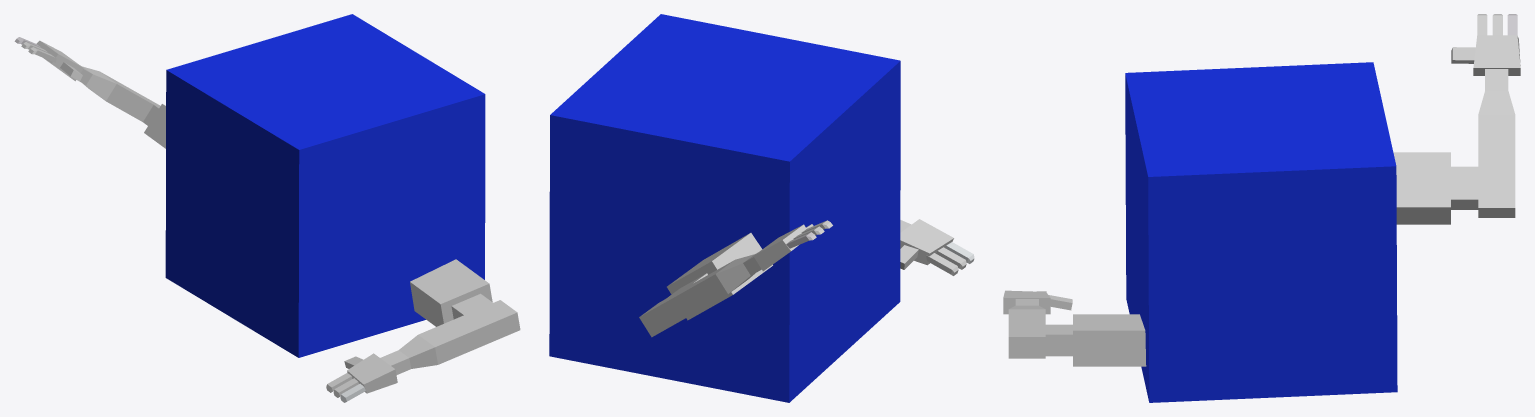
File: Block Model.fbx
3 views of the same model, side by side, from view 1: azimuth 30°, elevation 25°; view 2: azimuth 150°, elevation 25°; view 3: azimuth 270°, elevation 25° (orthographic). The views are drawn at different scales.
Visible parts, largest first — view 1: Cube, Cube.008, Cube.001; view 2: Cube, Cube.001, Cube.008; view 3: Cube, Cube.001, Cube.008.
Boxes of the visible parts, <box> form: Cube: <box>165,14,485,357</box>; Cube.008: <box>326,259,520,402</box>; Cube.001: <box>14,37,165,148</box>; Cube: <box>549,14,900,402</box>; Cube.001: <box>639,220,832,337</box>; Cube.008: <box>900,219,974,275</box>; Cube: <box>1125,62,1397,402</box>; Cube.001: <box>1393,14,1520,224</box>; Cube.008: <box>1003,290,1146,366</box>.
Size of the model in its own units: 436 by 299 by 598.
